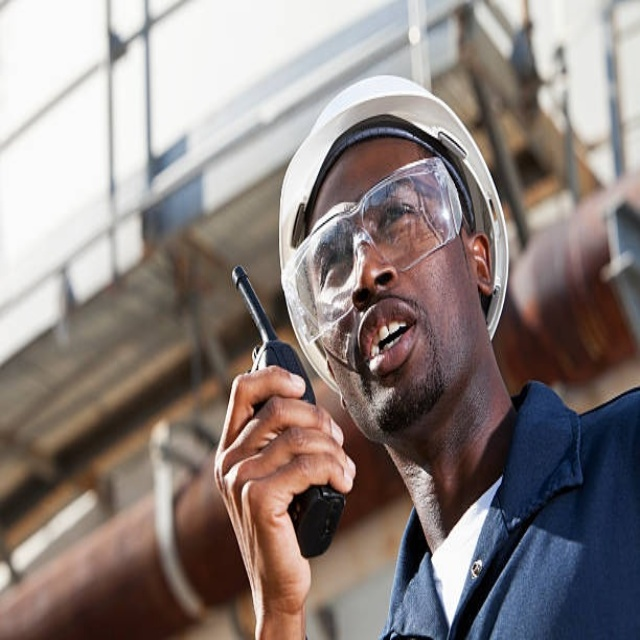Gafas: (290, 156, 468, 363)
Sin_guantes: (211, 361, 352, 636)
Sin_mascara: (342, 301, 440, 405)
